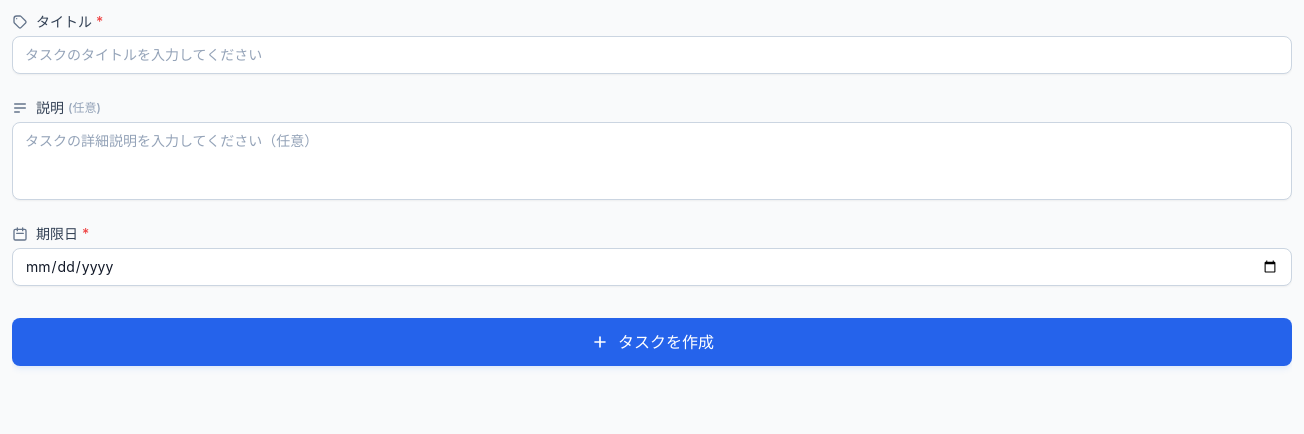
Test: TaskCreateForm › バリデーション › タイトルが空の場合エラーメッセージを表示する
This screenshot has width=1304, height=434.
タイトルを空にして送信
Clear the field labelled "タイトル *" at (652, 55), box [12,36,1292,74]
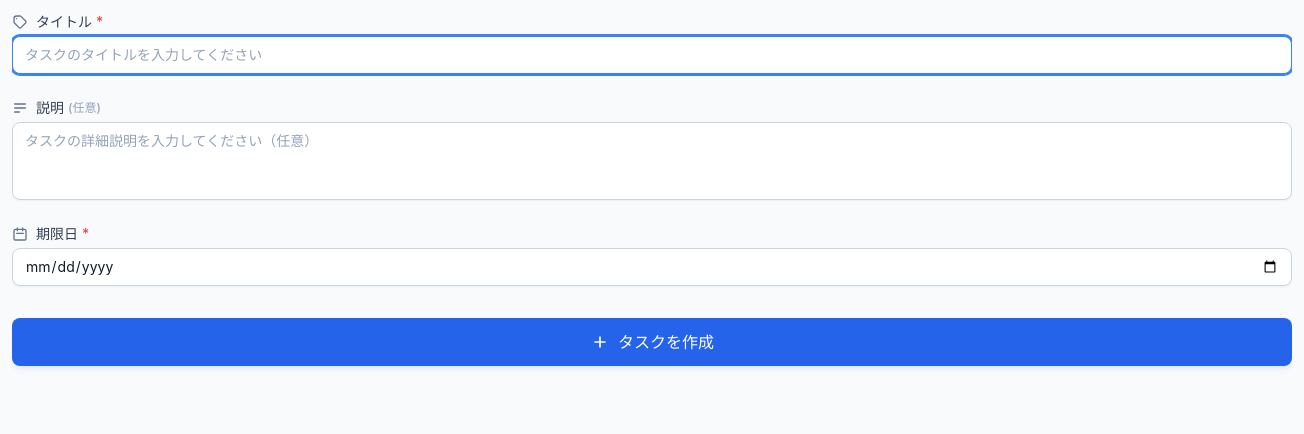
Click the button "タスクを作成" at (652, 342), box [12,318,1292,366]
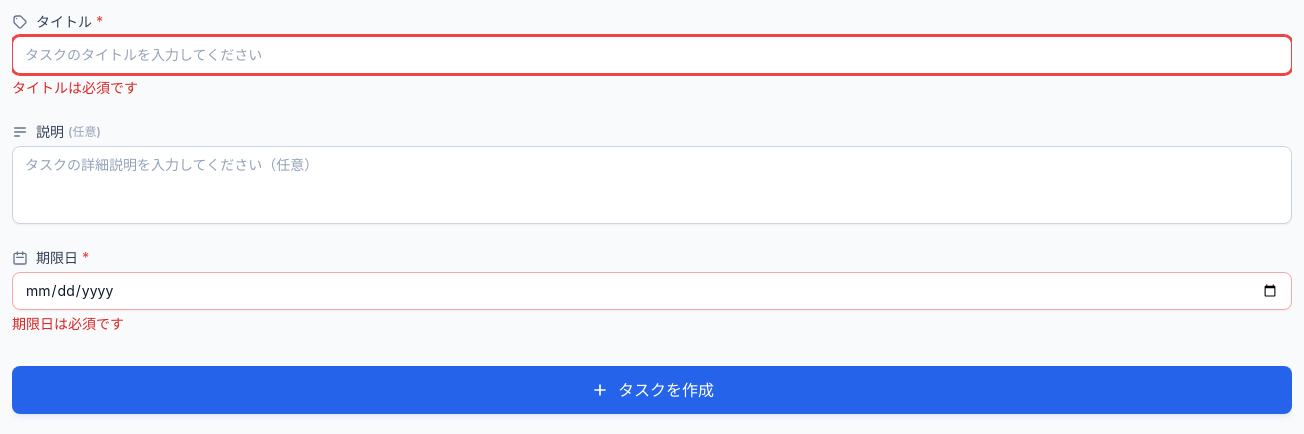
Now the text "タイトルは必須です" is shown, box [12,79,138,96]
